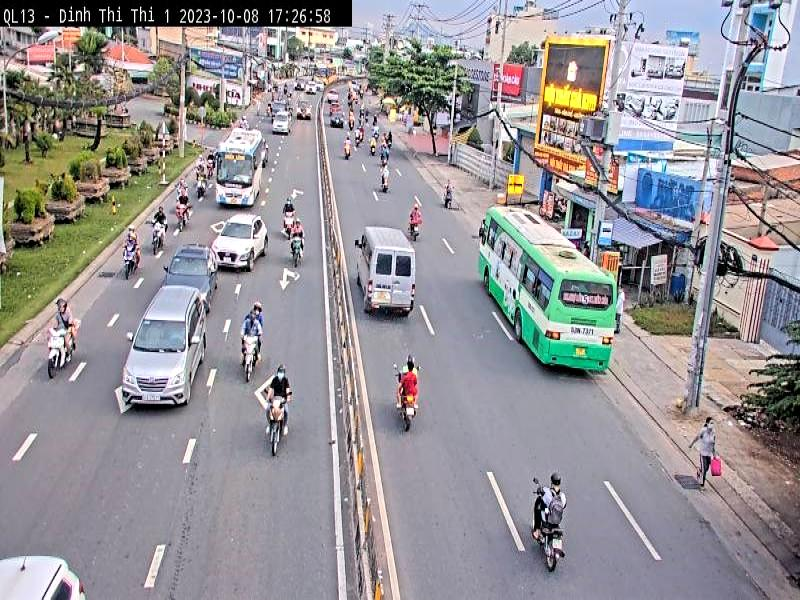bus: (477, 205, 618, 375), (214, 127, 264, 207)
car: (120, 286, 205, 406), (355, 228, 415, 312), (166, 240, 217, 315), (212, 216, 271, 268)
motorcycle: (264, 390, 290, 458), (236, 326, 265, 381), (44, 322, 66, 378), (543, 526, 567, 572), (398, 390, 419, 432)
